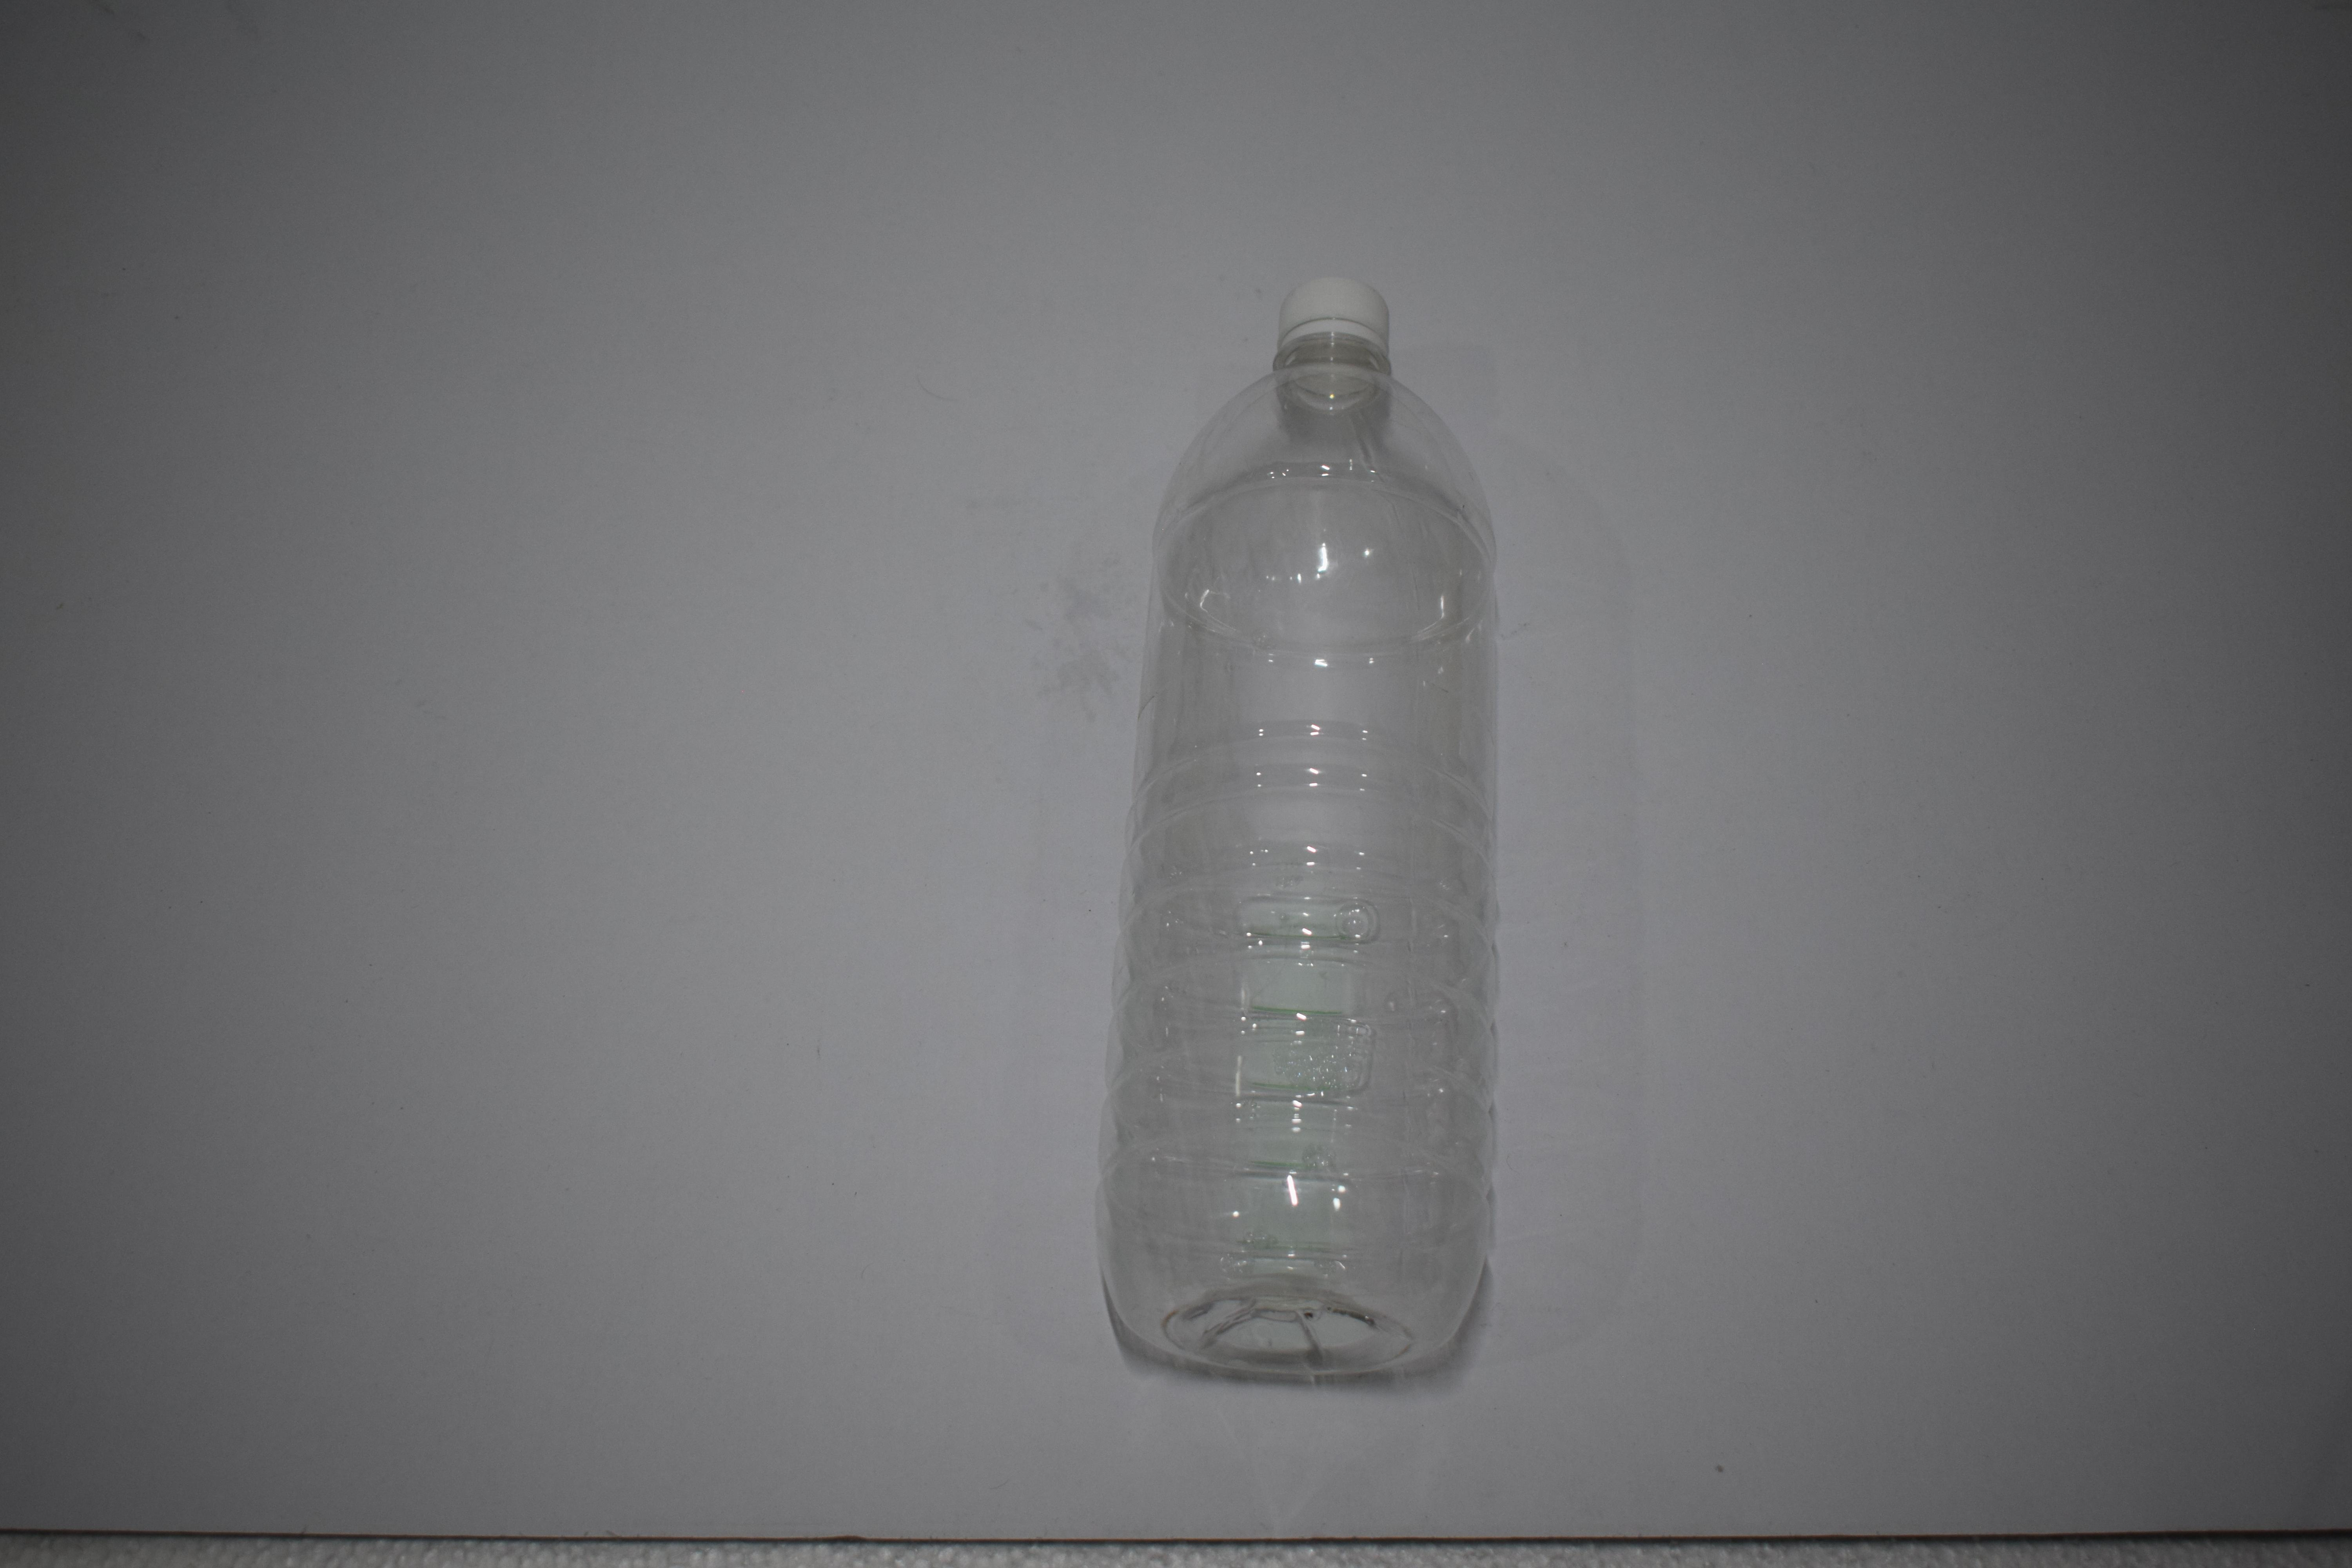bottle: (0, 0, 203, 598)
